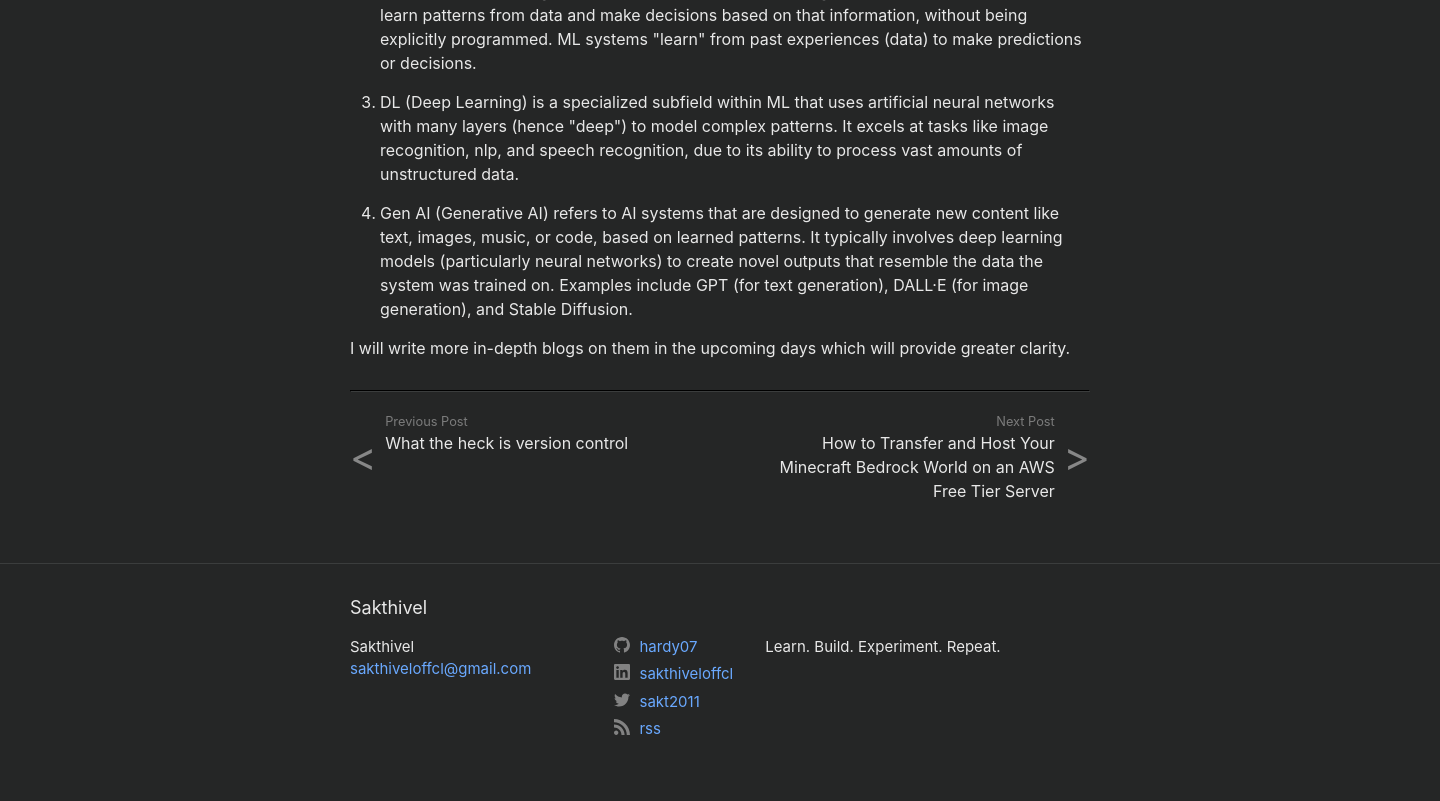
it: client-side behaviour › prev/next links move between posts
(page scrolled)
Click the link titled "What the heck is version control" at (489, 448), box [350, 414, 628, 481]
(page scrolled)
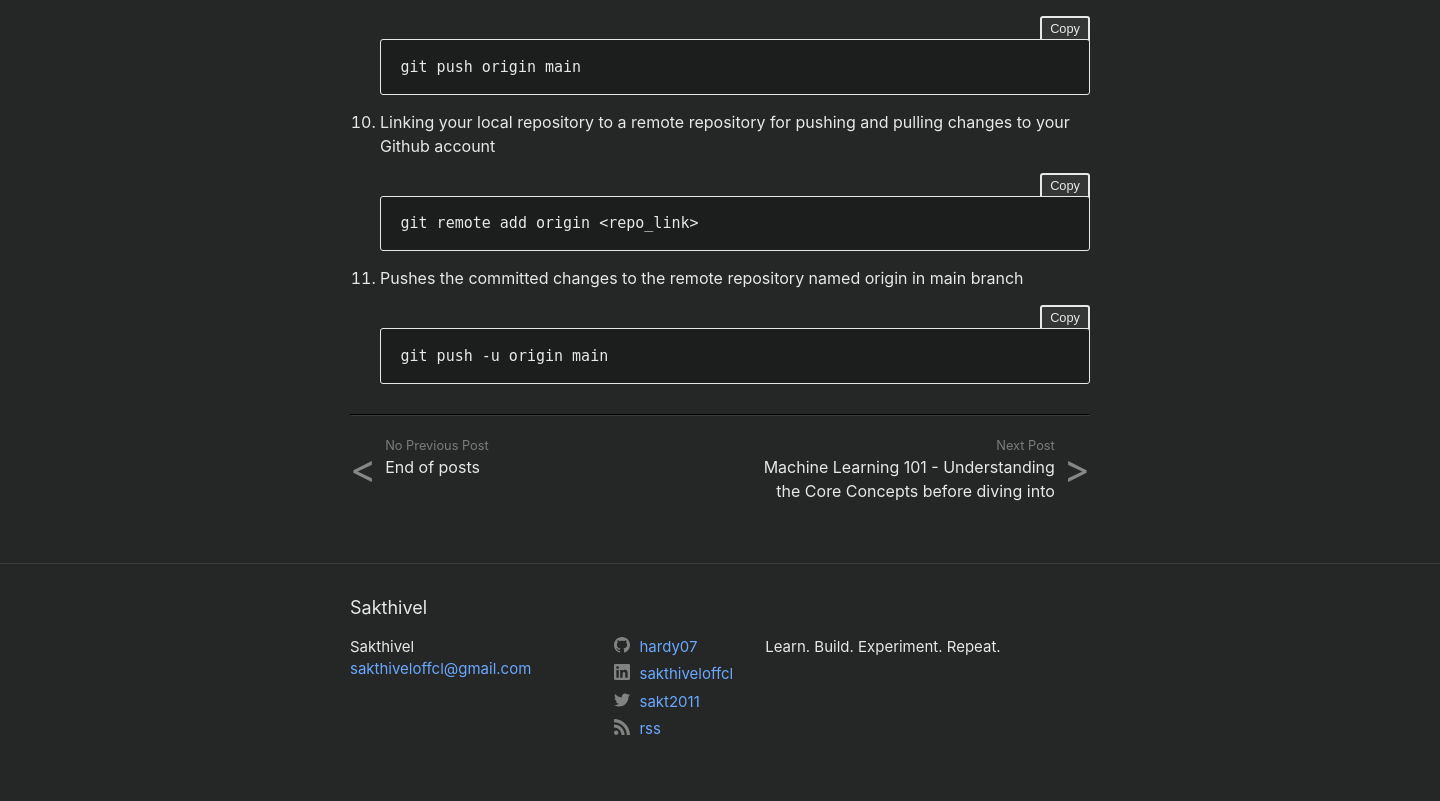
Expected: the text "No Previous Post" is shown, [385, 438, 489, 453]
